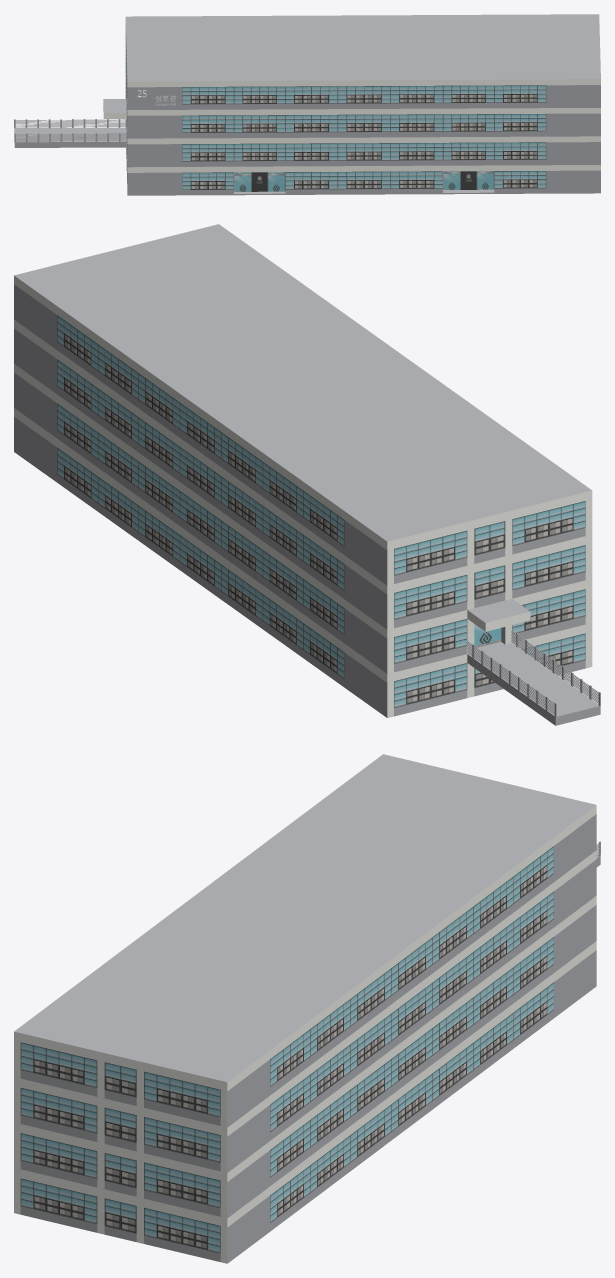
The model's file is building_seongho.glb.
3 renders of one model, top to bottom at view 1: azimuth 30°, elevation 25°; view 2: azimuth 150°, elevation 25°; view 3: azimuth 270°, elevation 25°, orthographic. The views are drawn at different scales.
Bounding box in the file's own units: 3.97 × 0.8977 × 2.63.
Materials: 1 (1 with a texture image).
